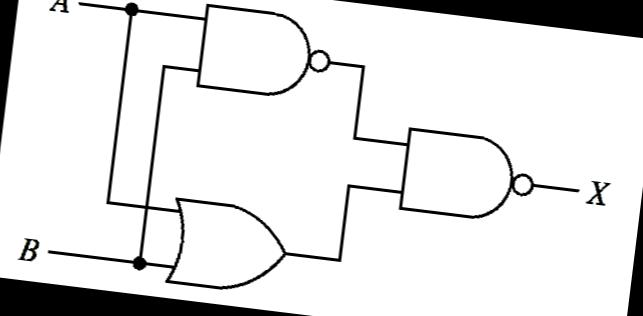nand: (387, 116, 548, 232), (185, 0, 346, 114)
or: (154, 190, 304, 304)
